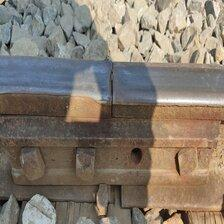railway-gap: (53, 36, 172, 138), (101, 178, 133, 212)
